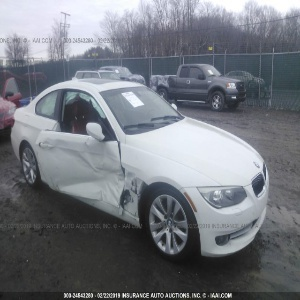door: (34, 136, 134, 213)
